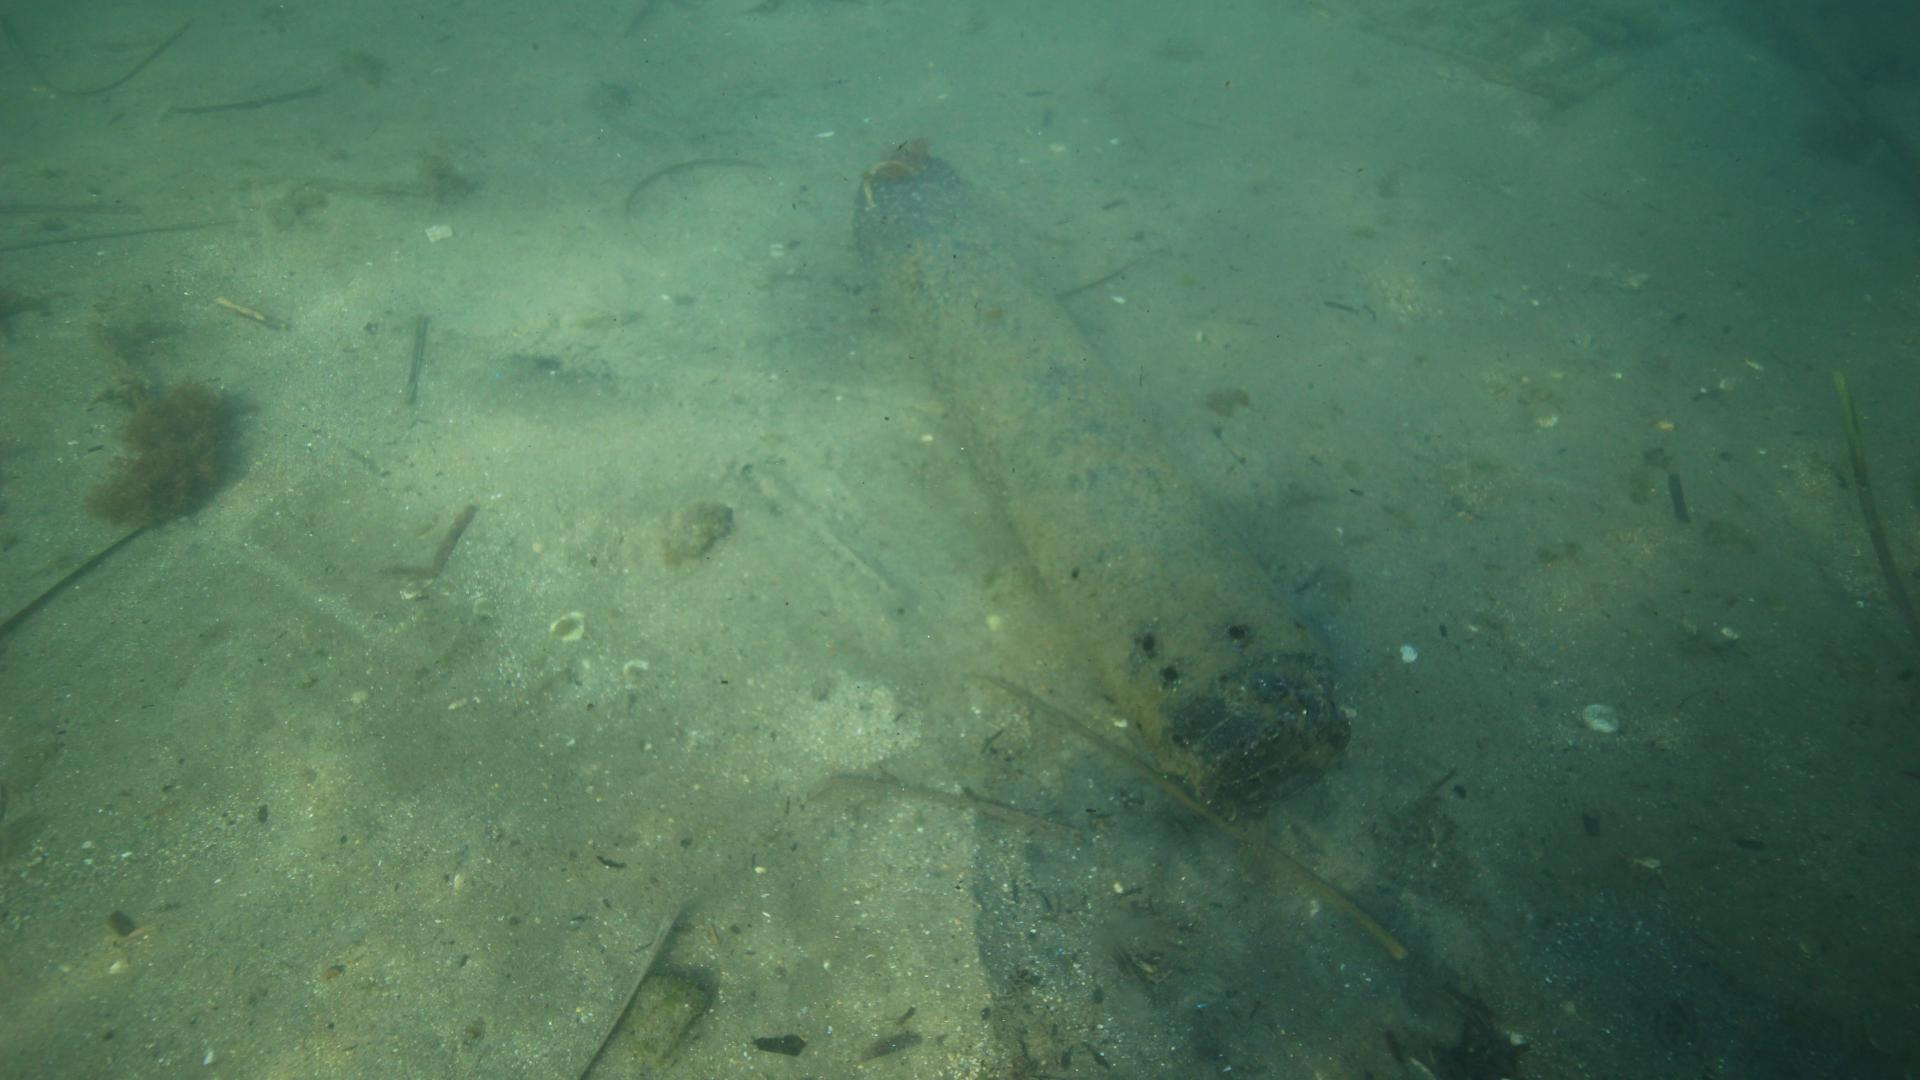eel fish trap: (852, 142, 1352, 810)
